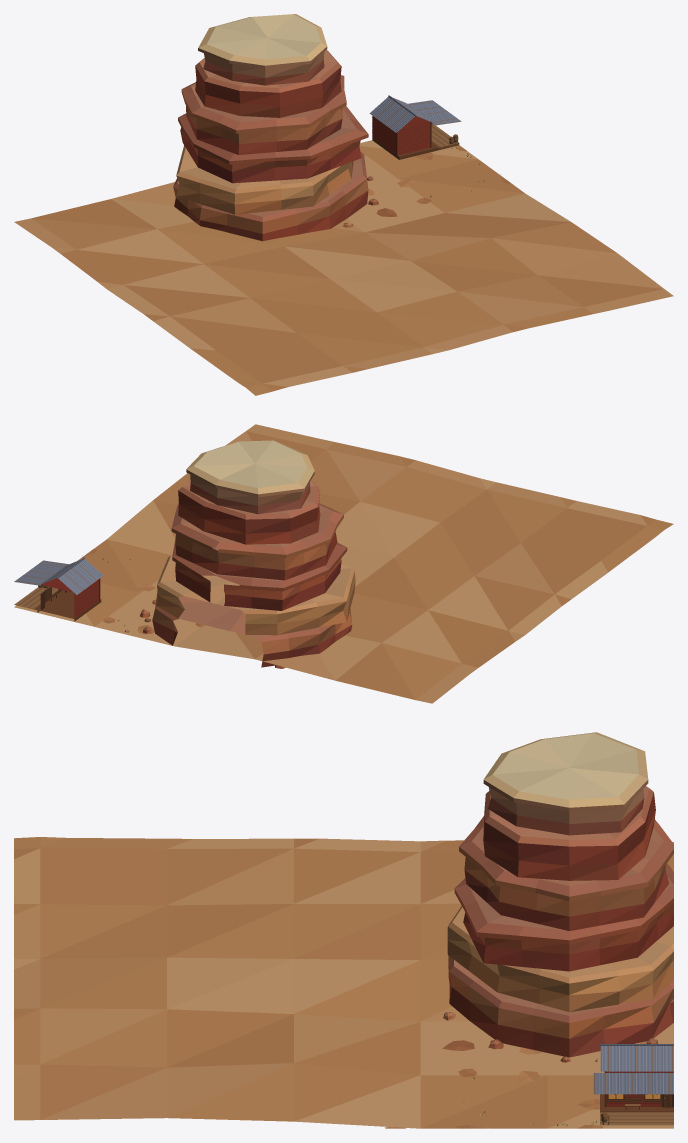
3 views of the same model, one above another, from view 1: azimuth 30°, elevation 25°; view 2: azimuth 150°, elevation 25°; view 3: azimuth 270°, elevation 25° (orthographic). The views are drawn at different scales.
Parts seen in each view (by area): view 1: baked; view 2: baked; view 3: baked.
Part boxes in pixels (x1,y1,x2,y2): baked: (14,14,673,395); baked: (14,424,673,703); baked: (14,732,673,1128).
Bounding box in the file's own units: 62.5 × 23.62 × 62.5.
